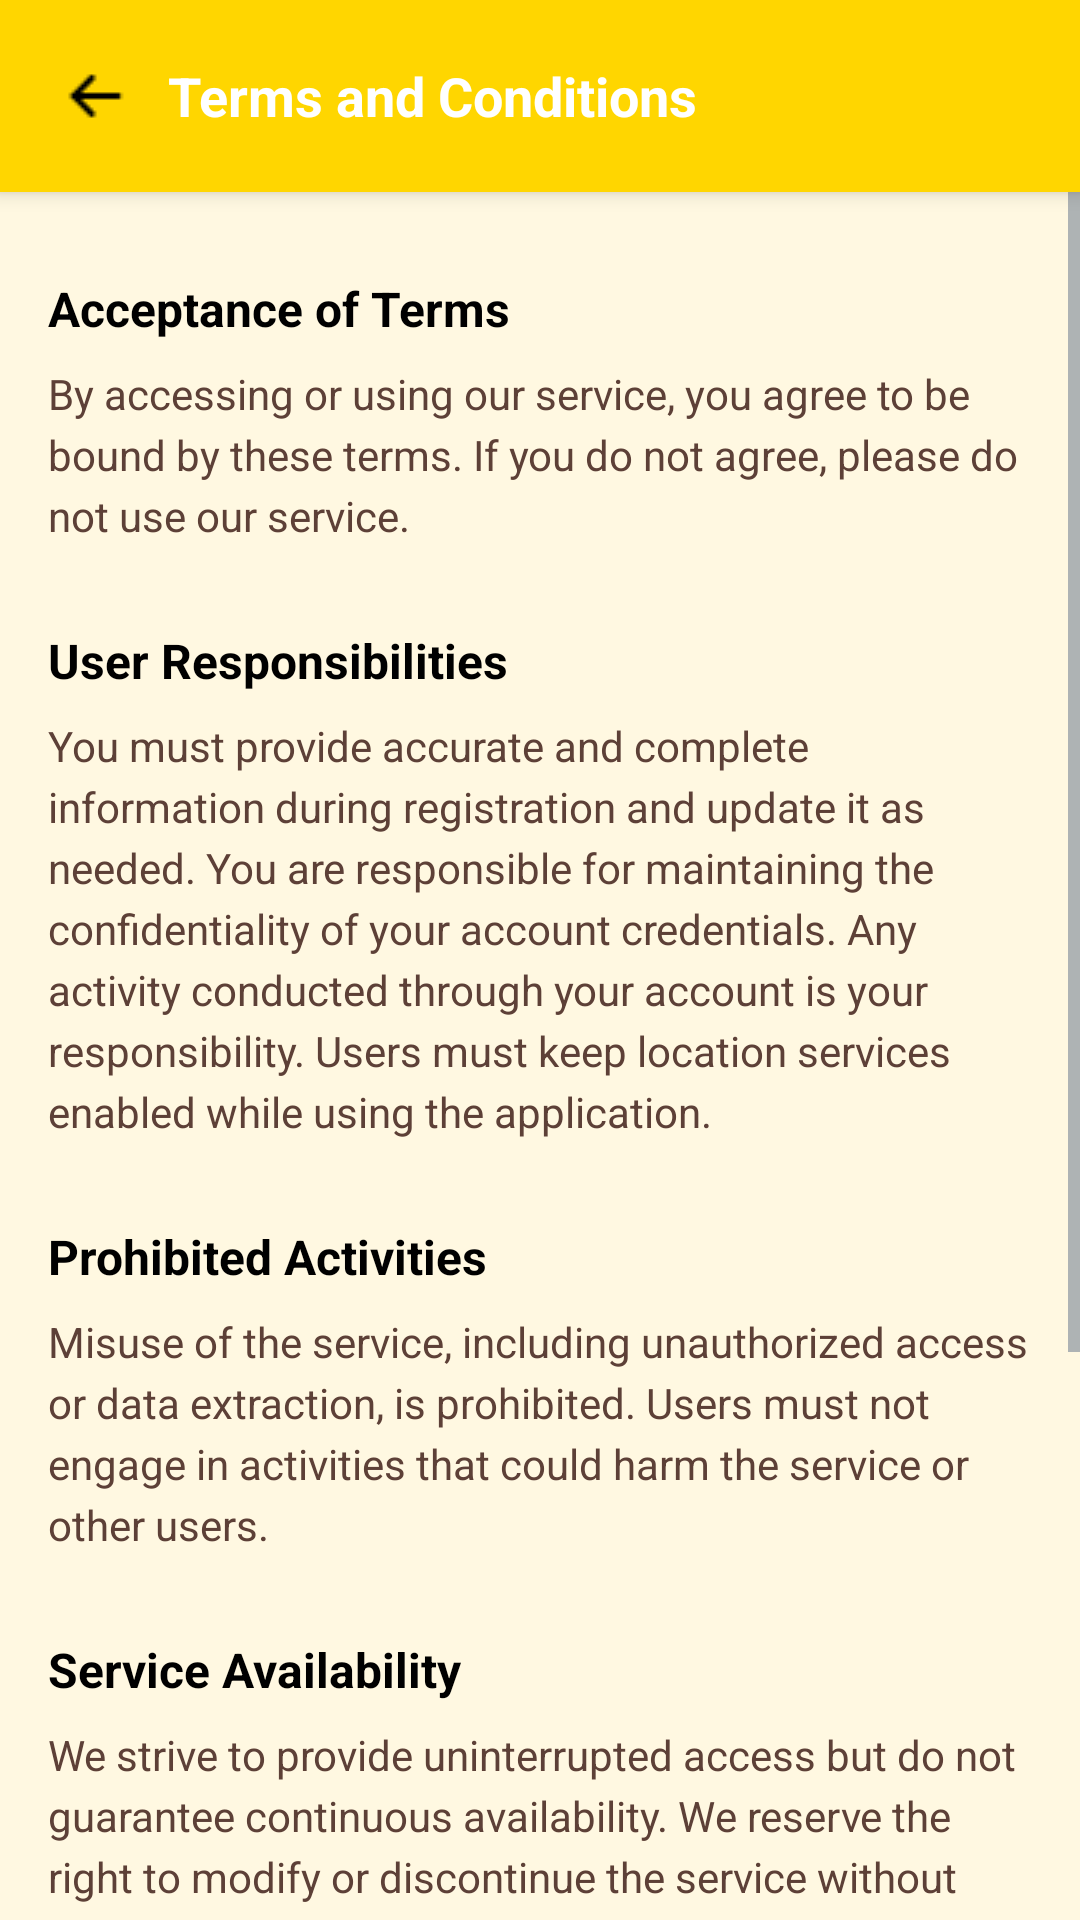

Locate icon controls on the screen. Image size 1080×1920, boxes as (x1, y1, x2, y2).
Back Button: (68, 74, 123, 118)
